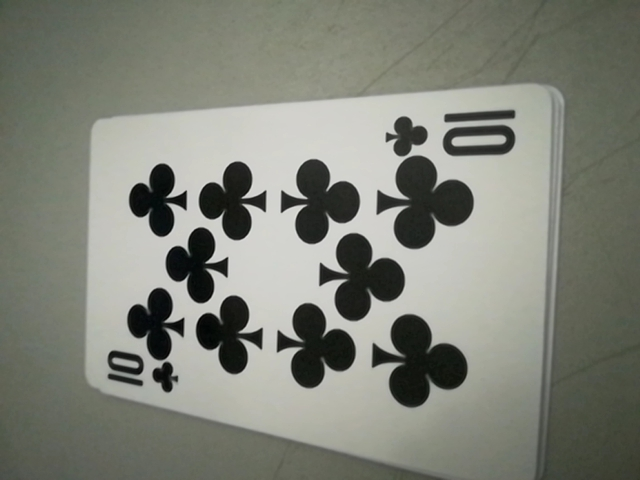mh 10: (383, 101, 528, 161), (102, 349, 184, 402)
